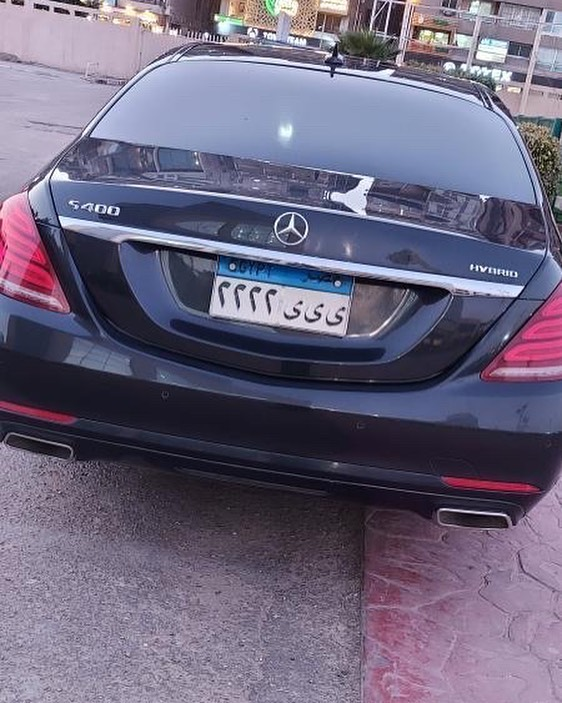carpl: (206, 261, 355, 330)
